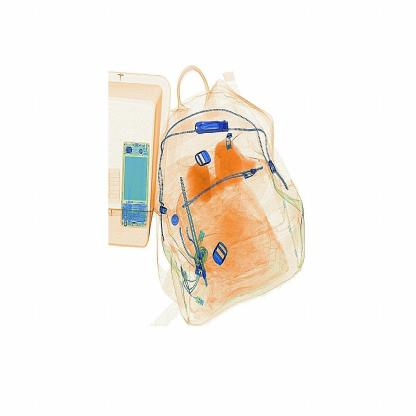knife: (183, 111, 238, 148)
